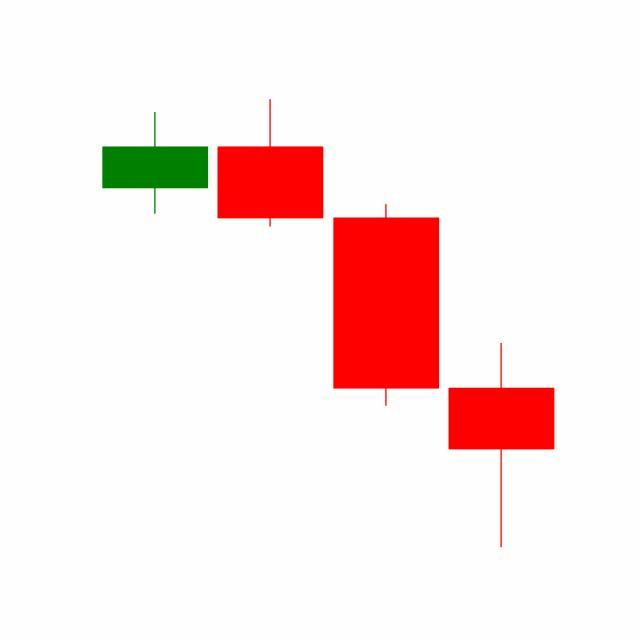Marubozu: (329, 203, 445, 410)
